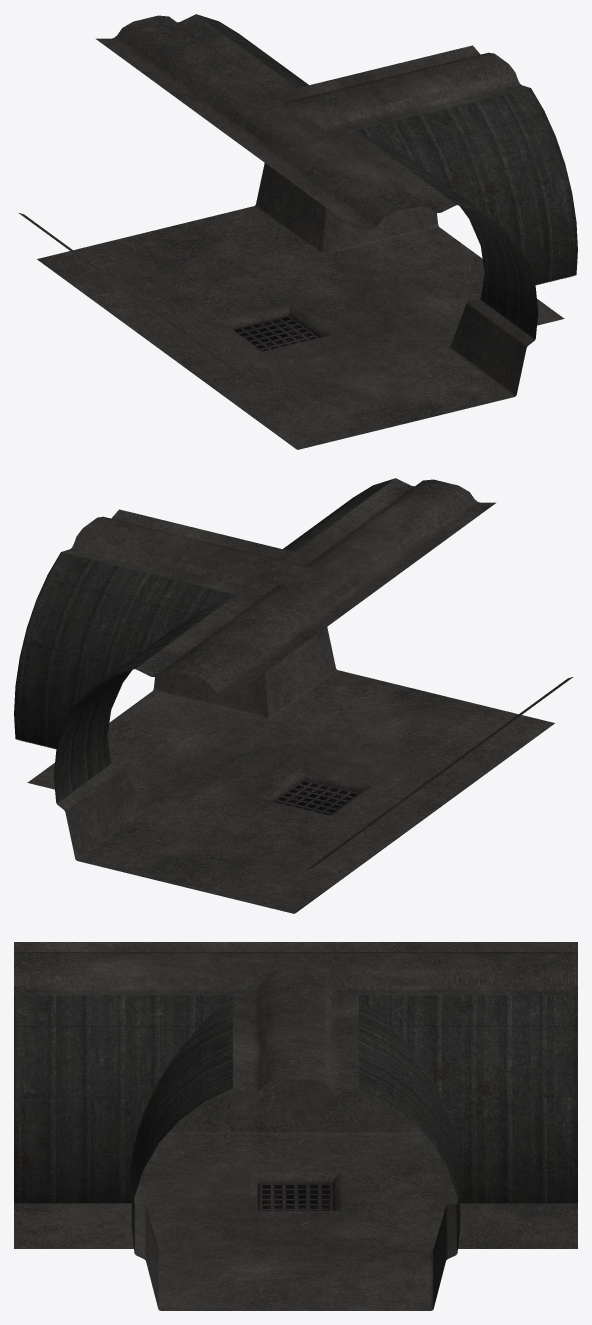
File: tunnel_junction_three_way.fbx
3 renders of one model, top to bottom at view 1: azimuth 30°, elevation 25°; view 2: azimuth 150°, elevation 25°; view 3: azimuth 270°, elevation 25°, orthographic. The views are drawn at different scales.
Visible parts, largest first — view 1: tunnel_junction_three_way; view 2: tunnel_junction_three_way; view 3: tunnel_junction_three_way.
Boxes of the visible parts, x1,y1,x2,y2 form: tunnel_junction_three_way: (19,14,577,449); tunnel_junction_three_way: (14,478,572,913); tunnel_junction_three_way: (14,942,577,1310).
Size of the model in its own units: 4.75 by 6 by 2.82.
